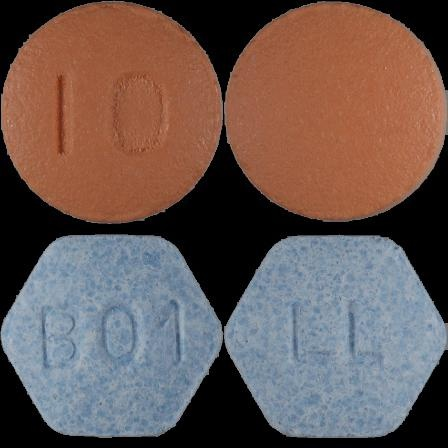43063-481: (0, 0, 224, 224)
